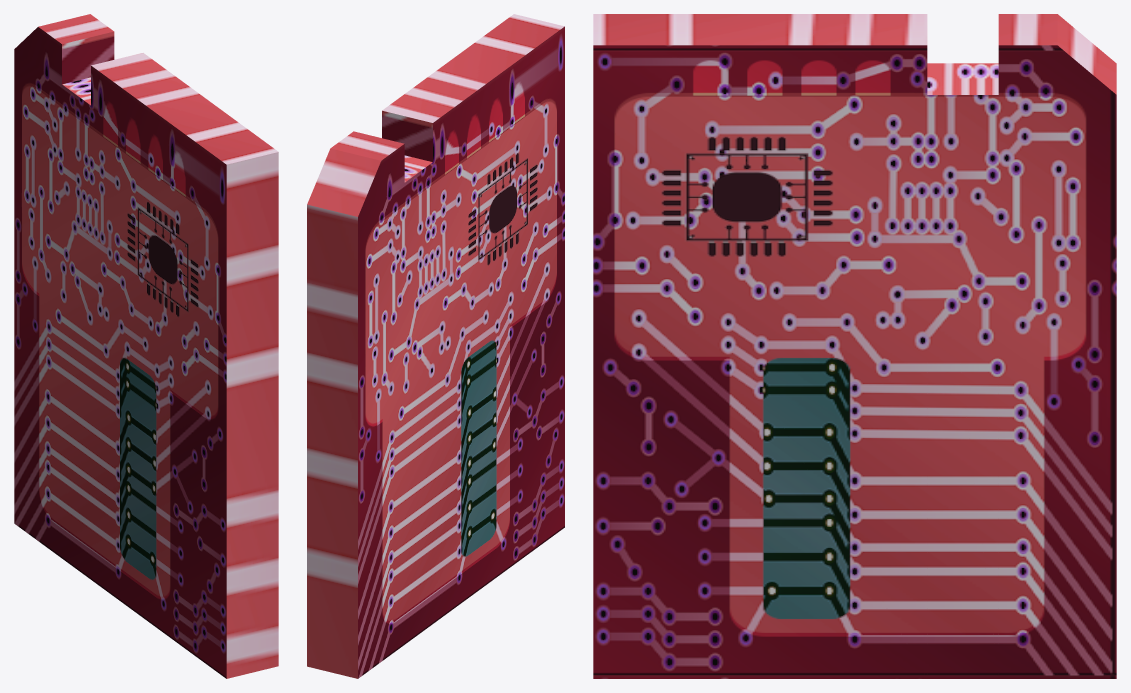
File: keycard_red.glb
3 renders of one model, left to right at view 1: azimuth 30°, elevation 25°; view 2: azimuth 150°, elevation 25°; view 3: azimuth 270°, elevation 25°, orthographic. The views are drawn at different scales.
Parts seen in each view (by area): view 1: Cube; view 2: Cube; view 3: Cube.
Part boxes in pixels (x1,y1,x2,y2): Cube: [14, 14, 278, 678]; Cube: [307, 14, 564, 678]; Cube: [593, 14, 1116, 678].
Bounding box in the file's own units: 0.2926 × 2.75 × 2.06.
Materials: 1 (1 with a texture image).
